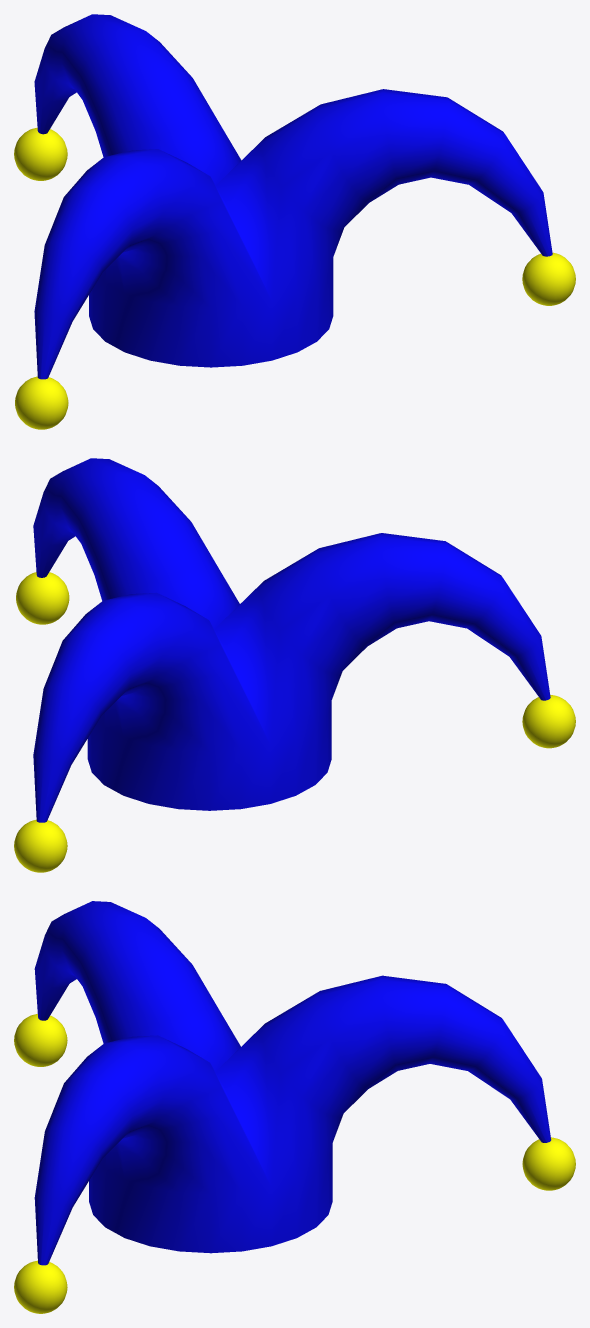
Rendered from Blue_Hat.fbx.
3 views of the same model, one above another, from view 1: azimuth 30°, elevation 25°; view 2: azimuth 150°, elevation 25°; view 3: azimuth 270°, elevation 25° (orthographic).
Parts seen in each view (by area): view 1: 넙스 경로, 구체.002; view 2: 넙스 경로, 구체.002; view 3: 넙스 경로, 구체.002.
Boxes of the visible parts, bbox=[...] form: 넙스 경로: bbox=[34, 14, 552, 379]; 구체.002: bbox=[14, 127, 575, 429]; 넙스 경로: bbox=[33, 458, 550, 822]; 구체.002: bbox=[14, 572, 575, 872]; 넙스 경로: bbox=[34, 901, 551, 1265]; 구체.002: bbox=[14, 1014, 575, 1313].
Size of the model in its own units: 3.76 by 1.44 by 3.31.
